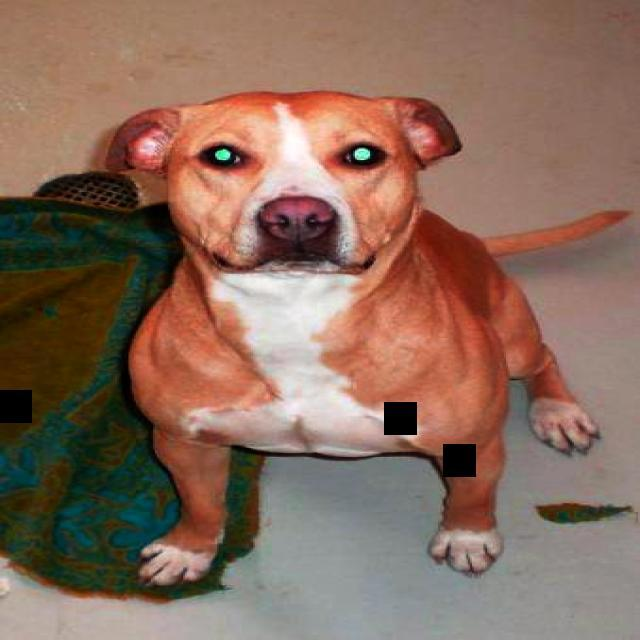adult_dog: (96, 88, 630, 591)
